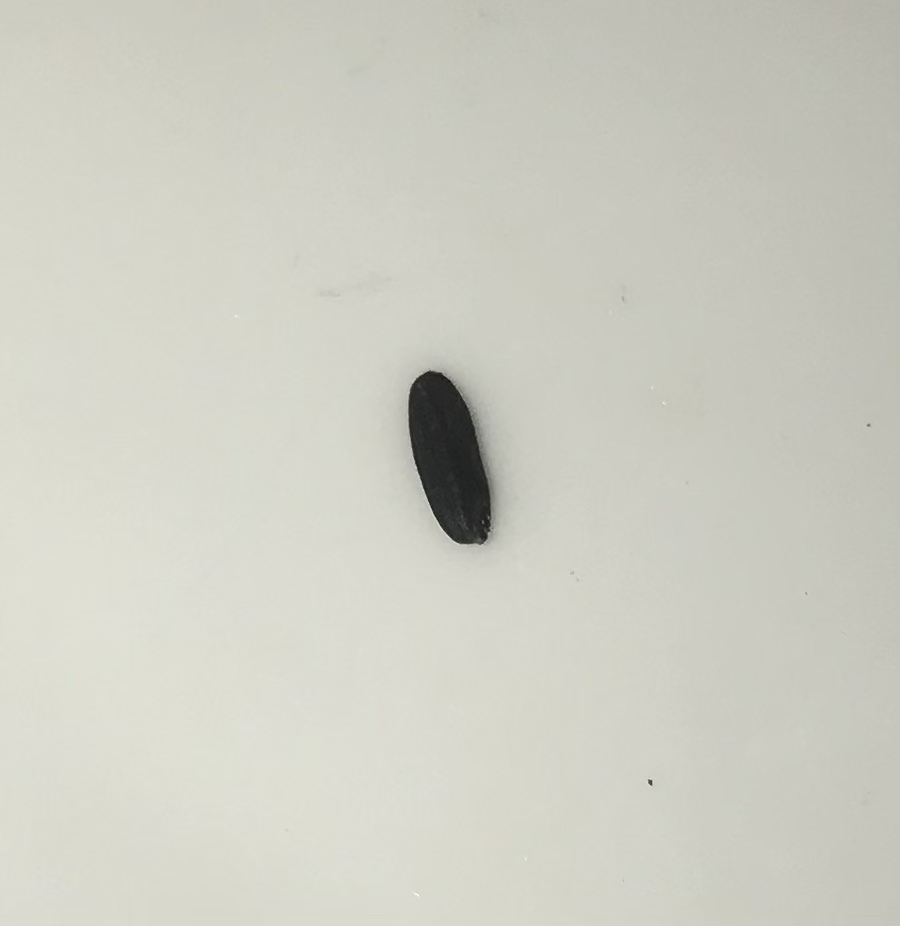Gao Nep Cam: (397, 375, 506, 556)
